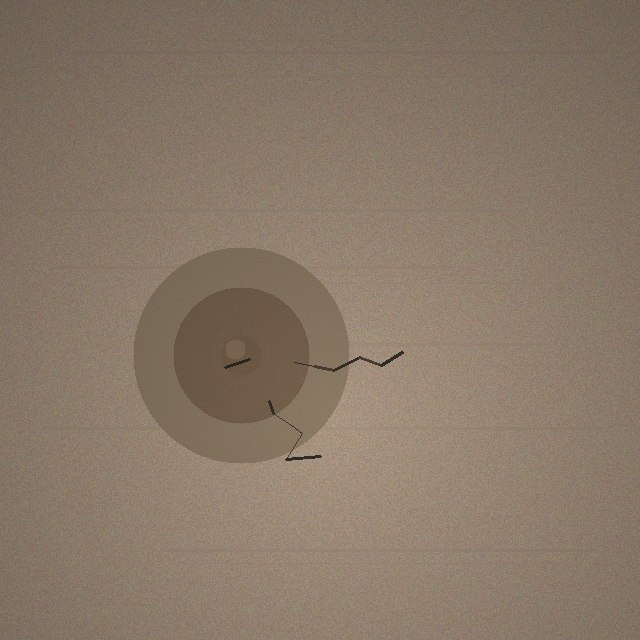crack: (133, 247, 349, 463)
